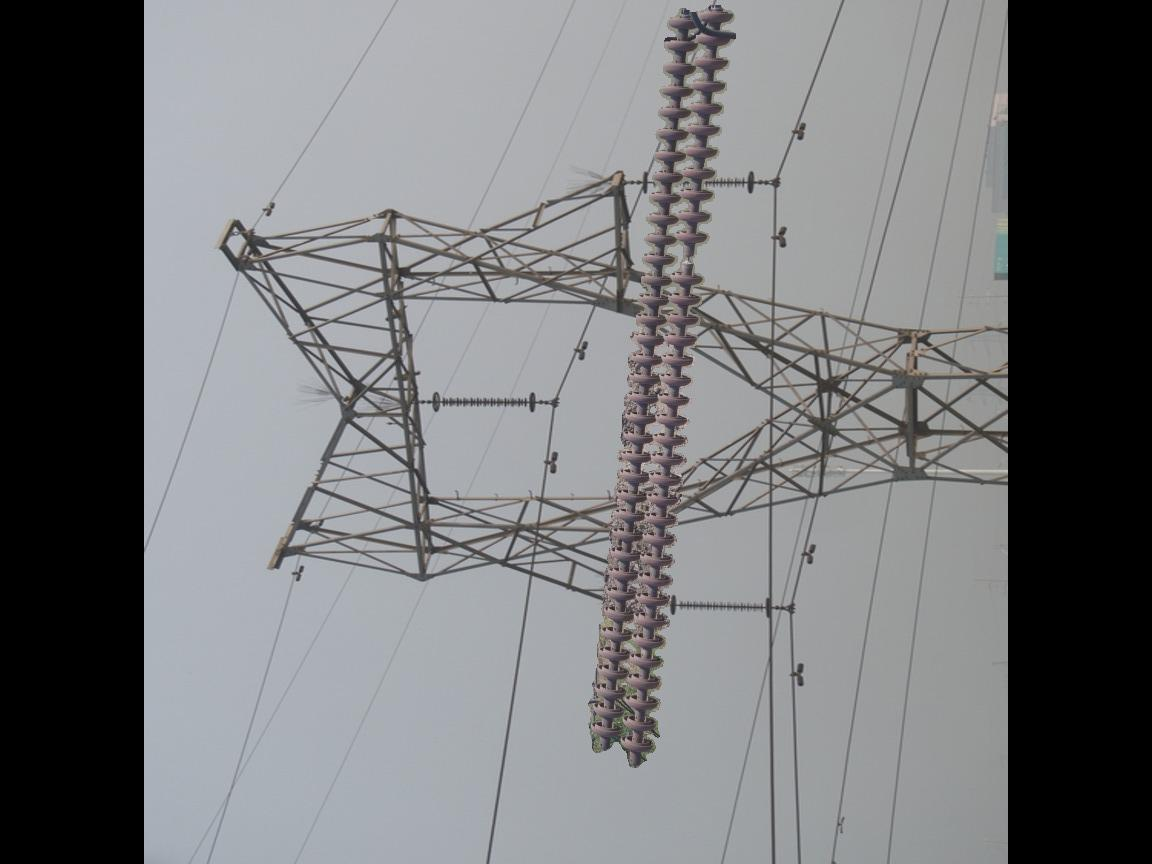insulator: (581, 1, 740, 774), (673, 594, 789, 625), (427, 389, 533, 419)
insulator_stringdrop: (669, 228, 711, 289)
